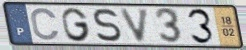3: (184, 7, 215, 46), (155, 6, 182, 45)
C: (29, 7, 62, 42)
G: (60, 6, 93, 43)
S: (92, 7, 124, 43)
V: (118, 7, 152, 44)
